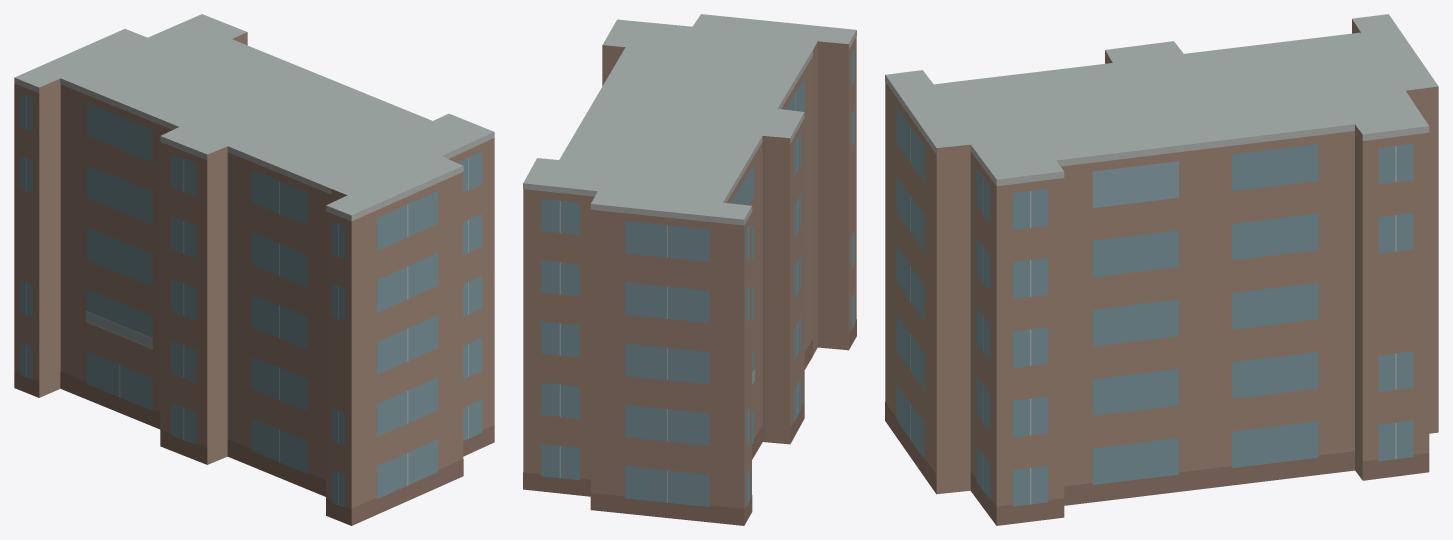
File: survey-upis-32717003.glb
3 renders of one model, left to right at view 1: azimuth 30°, elevation 25°; view 2: azimuth 150°, elevation 25°; view 3: azimuth 270°, elevation 25°, orthographic. The views are drawn at different scales.
Parts seen in each view (by area): view 1: survey-upis-32717003.tmp; view 2: survey-upis-32717003.tmp; view 3: survey-upis-32717003.tmp.
Boxes of the visible parts, bbox=[...] form: survey-upis-32717003.tmp: bbox=[14, 14, 494, 525]; survey-upis-32717003.tmp: bbox=[523, 14, 856, 525]; survey-upis-32717003.tmp: bbox=[885, 14, 1438, 525].
Bounding box in the file's own units: 13.26 × 12.9 × 18.7.
